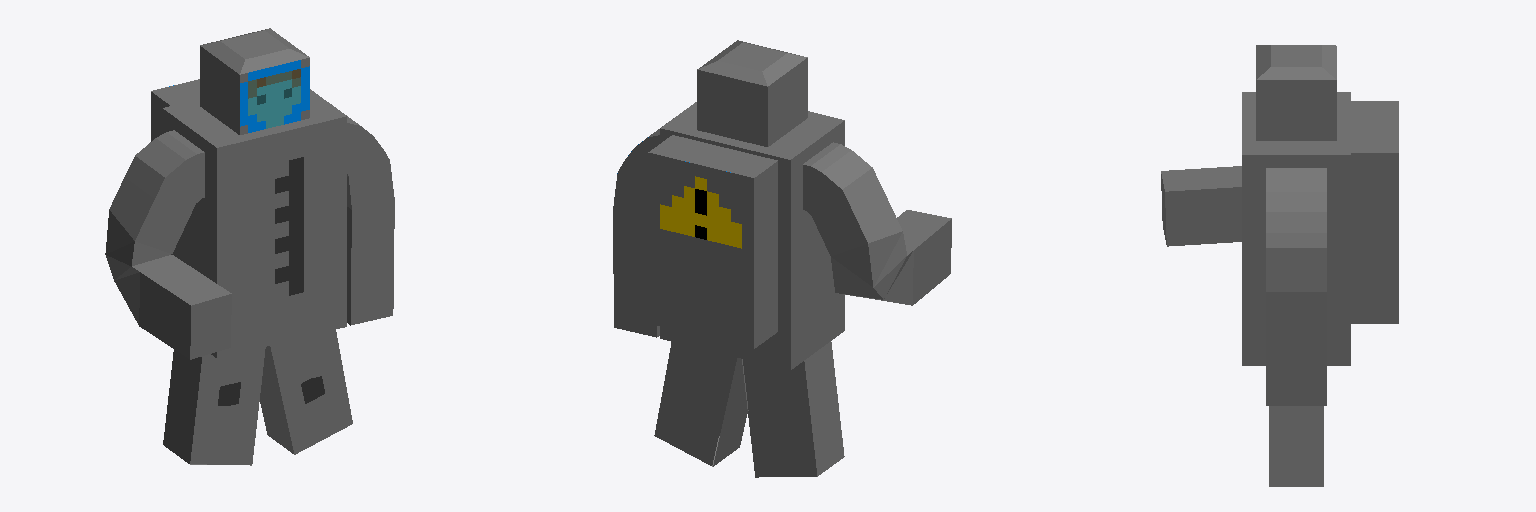
3 renders of one model, left to right at view 1: azimuth 30°, elevation 25°; view 2: azimuth 150°, elevation 25°; view 3: azimuth 270°, elevation 25°, orthographic.
Parts seen in each view (by area): view 1: Cube_Cube.001; view 2: Cube_Cube.001; view 3: Cube_Cube.001.
Part boxes in pixels (bbox=[...]): Cube_Cube.001: bbox=[105, 28, 394, 465]; Cube_Cube.001: bbox=[613, 40, 951, 477]; Cube_Cube.001: bbox=[1161, 45, 1398, 486].
Size of the model in its own units: 4.03 by 5.94 by 3.15.
Materials: 1 (1 with a texture image).